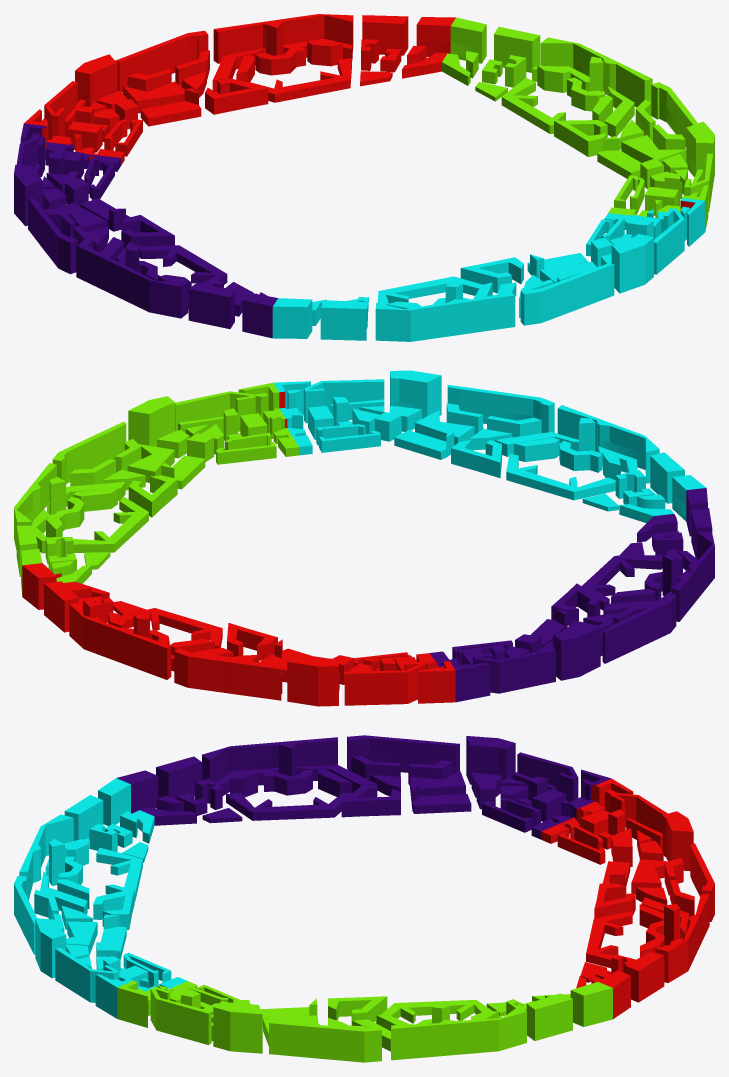
File: 3eme_etage 1.fbx
3 renders of one model, top to bottom at view 1: azimuth 30°, elevation 25°; view 2: azimuth 150°, elevation 25°; view 3: azimuth 270°, elevation 25°, orthographic.
Visible parts, largest first — view 1: Buildings; view 2: Buildings; view 3: Buildings.
Part boxes in pixels (x1,y1,x2,y2): Buildings: (14, 14, 714, 341); Buildings: (14, 370, 714, 706); Buildings: (14, 735, 714, 1062).
Size of the model in its own units: 480 by 29.85 by 480.
